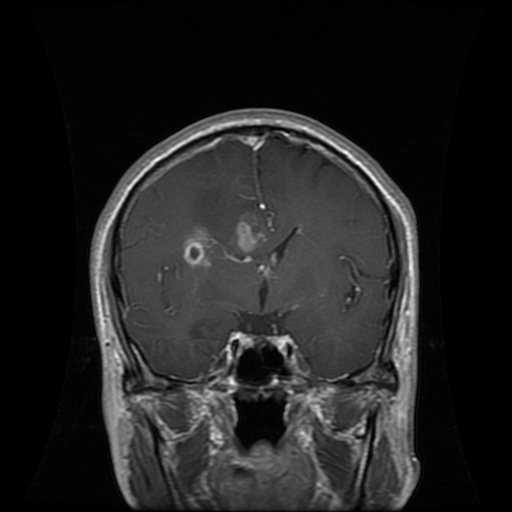glioma: (178, 205, 272, 268)
